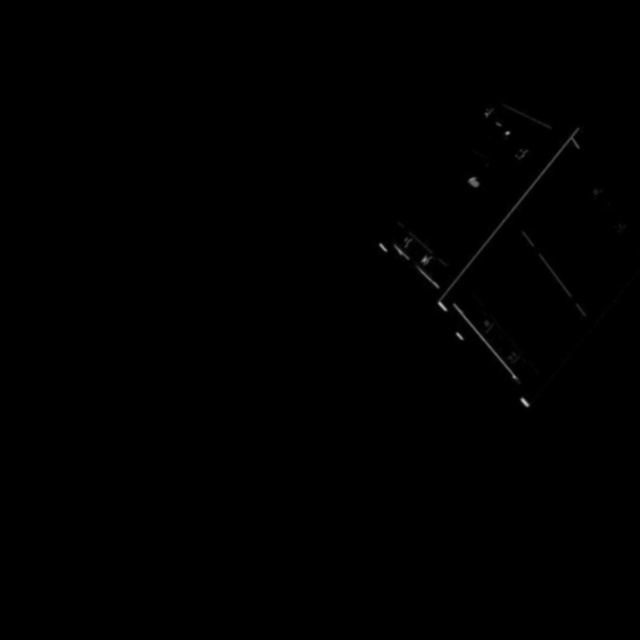satellite: (352, 80, 640, 430)
